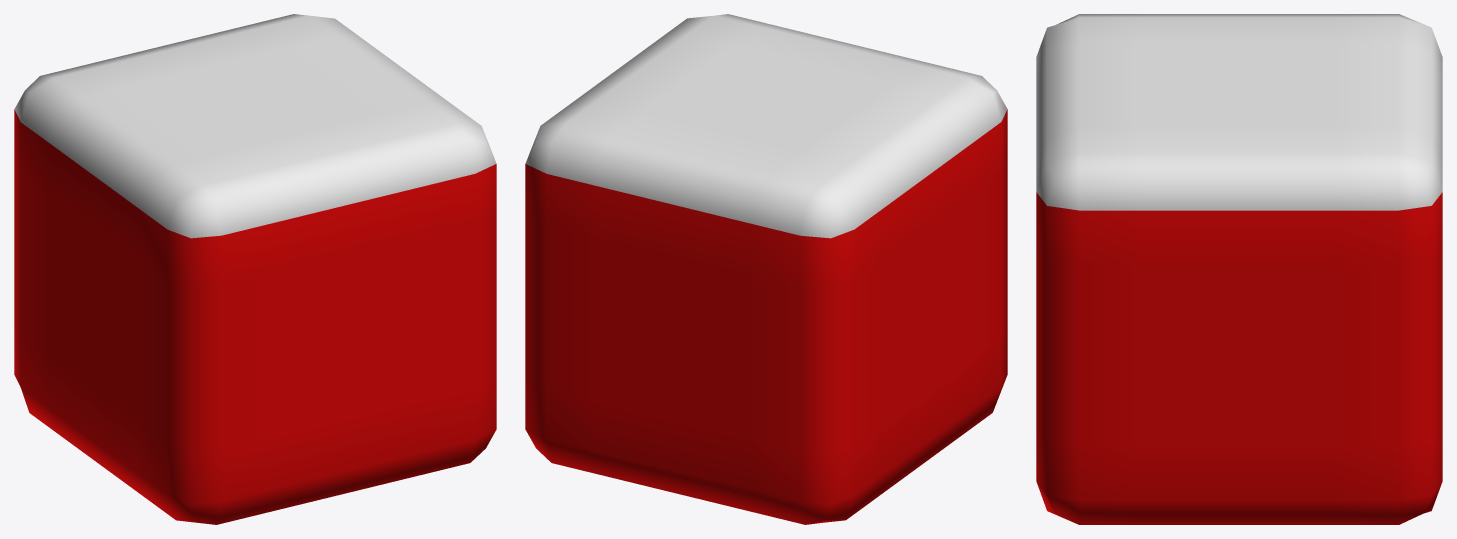
File: Grid_Stone.fbx
The picture shows the model from 3 angles, left to right: view 1: azimuth 30°, elevation 25°; view 2: azimuth 150°, elevation 25°; view 3: azimuth 270°, elevation 25°; orthographic projection. The views are drawn at different scales.
Parts seen in each view (by area): view 1: landGrid_low; view 2: landGrid_low; view 3: landGrid_low.
Part boxes in pixels (left/top/right/bottom): landGrid_low: left=14, top=14, right=496, bottom=524; landGrid_low: left=525, top=14, right=1007, bottom=524; landGrid_low: left=1036, top=14, right=1442, bottom=524.
Size of the model in its own units: 1.11 by 1.11 by 1.11.
